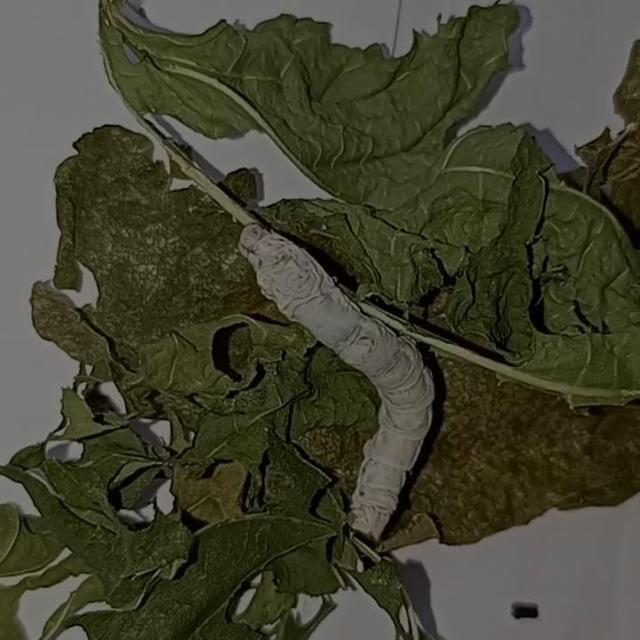Healthy: (222, 210, 451, 552)
